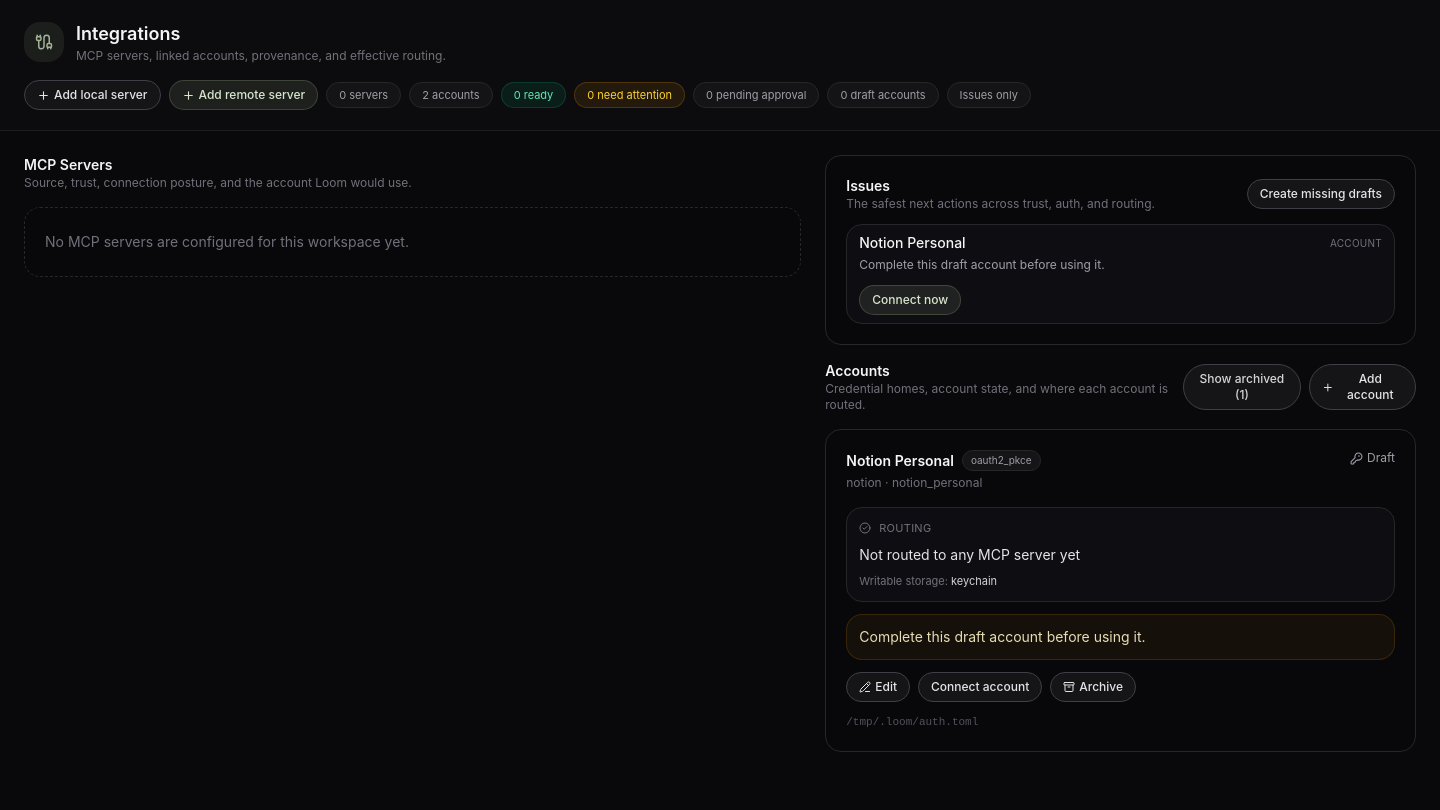
Scenario: IntegrationsTab › hides archived accounts by default and reveals them on demand
The image size is (1440, 810).
Expected: the text "Notion Personal" is shown, x1=859 y1=233 x2=966 y2=253
Expected: the text "Legacy Archived" is not shown
Click the button "Show archived (1)". click: click(1242, 387)
box: x1=1183 y1=364 x2=1301 y2=410
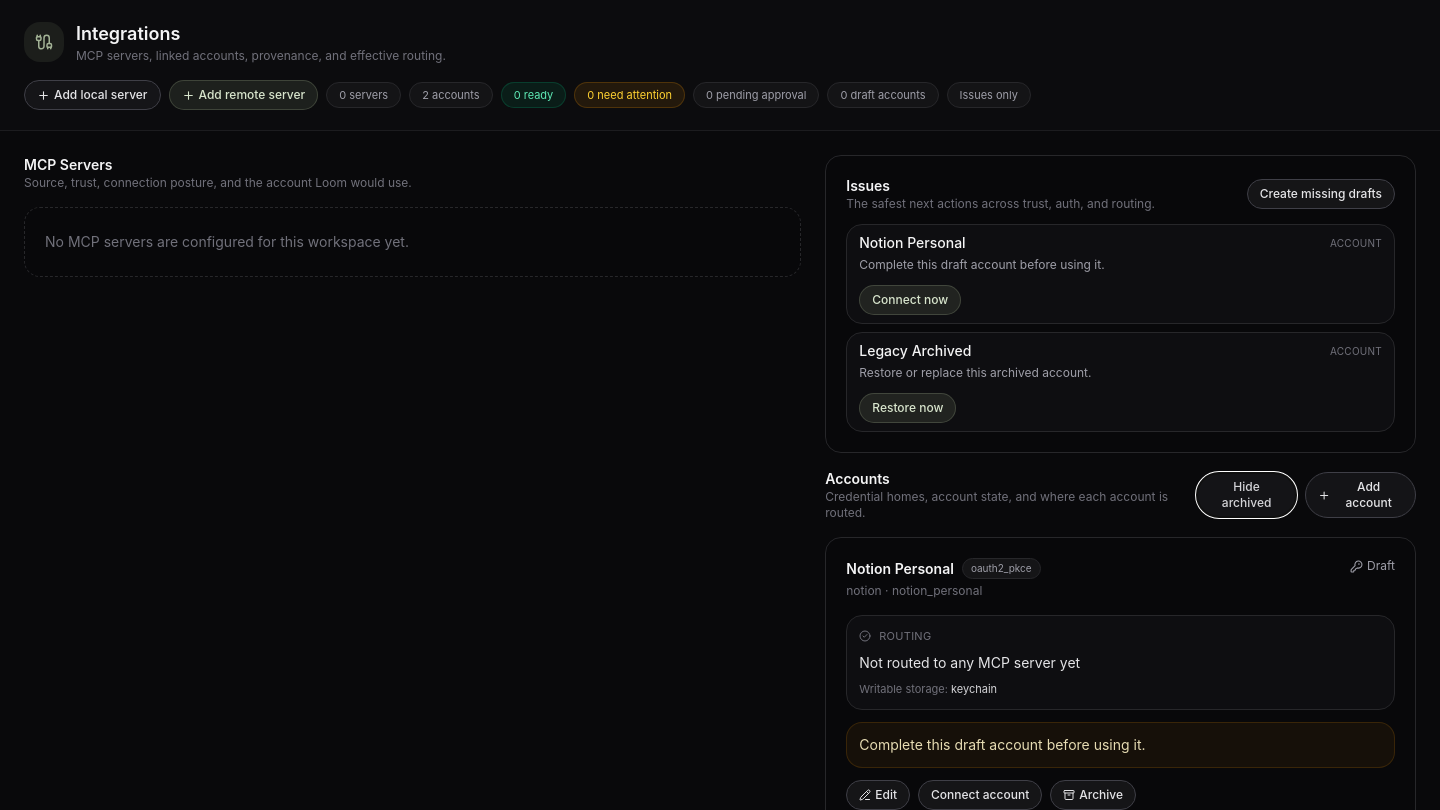
Now the text "Legacy Archived" is shown, box x1=859 y1=341 x2=971 y2=361
Now the button "Hide archived" is shown, box x1=1196 y1=472 x2=1297 y2=518
